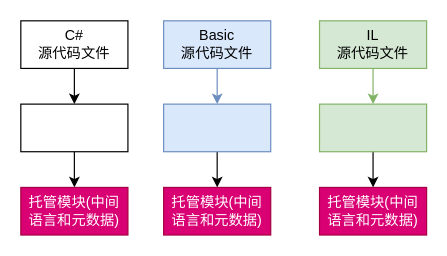
Some shapes in this 447 by 256 pixel diagram are drawn without their labels. Each missing label, with the centre of its shape:
"Basic 编译器" goes at [216,127].
"C# 编译器" goes at [74,127].
"IL 汇编器" goes at [372,127].
